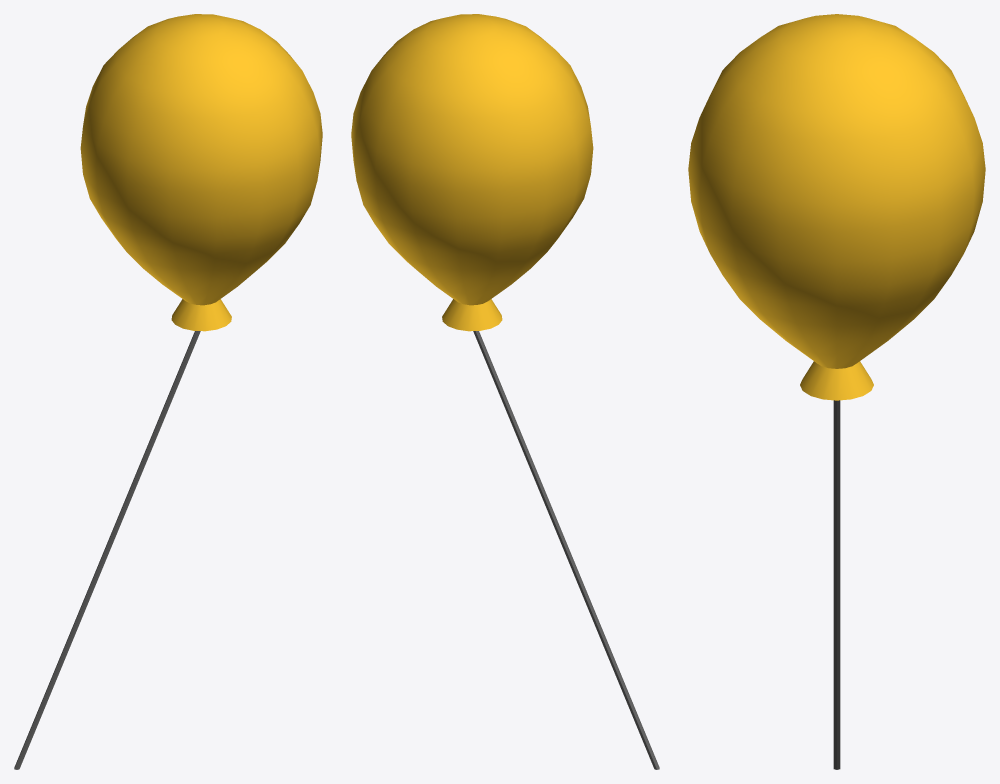
File: fbx_balloon3.fbx
3 views of the same model, side by side, from view 1: azimuth 30°, elevation 25°; view 2: azimuth 150°, elevation 25°; view 3: azimuth 270°, elevation 25° (orthographic). The views are drawn at different scales.
Visible parts, largest first — view 1: fbx_balloon3; view 2: fbx_balloon3; view 3: fbx_balloon3.
Part boxes in pixels (box(x1,y1,x2,y2)): fbx_balloon3: box(14, 14, 322, 769); fbx_balloon3: box(351, 14, 659, 769); fbx_balloon3: box(688, 14, 985, 769).
Size of the model in its own units: 1.03 by 2.33 by 0.7396.
1 material, 1 textured.
